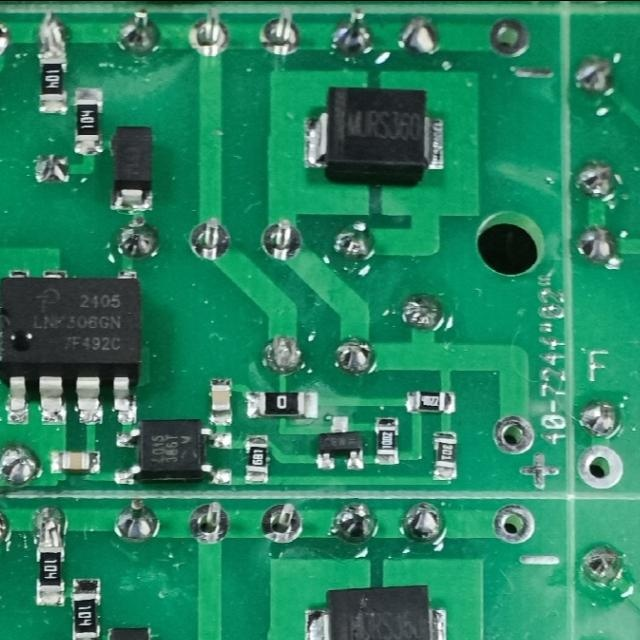chip-capacitor: (49, 449, 102, 475), (208, 377, 233, 426)
chip-resistor: (244, 388, 320, 420), (72, 86, 104, 155), (70, 575, 102, 640), (35, 543, 66, 608), (37, 52, 68, 116), (243, 433, 270, 486), (403, 389, 457, 415), (374, 414, 401, 466), (432, 429, 458, 482)
diode: (303, 84, 449, 188), (302, 583, 449, 640), (109, 126, 154, 214)
ic: (0, 266, 142, 426), (113, 419, 234, 488)
transistor: (314, 414, 364, 471)
